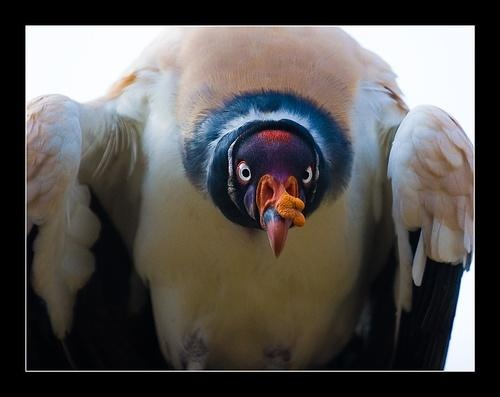bird: (26, 26, 475, 372)
